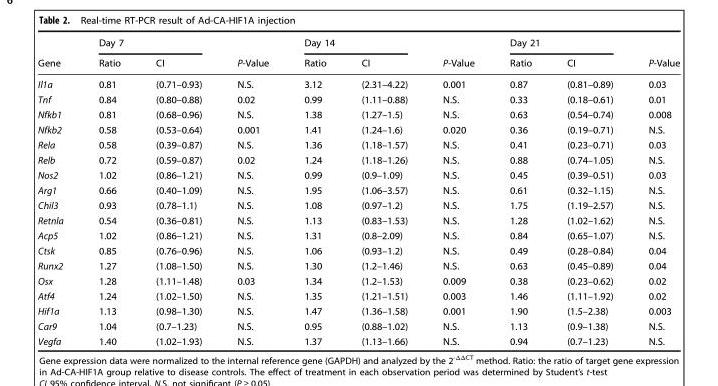table: (37, 36, 679, 346)
table column: (548, 36, 630, 346), (137, 36, 218, 346), (343, 36, 424, 346), (218, 36, 285, 346), (424, 36, 491, 346), (285, 36, 343, 346), (80, 36, 137, 346), (491, 36, 548, 346), (630, 36, 679, 346), (37, 36, 80, 346)
table column header: (37, 36, 679, 73)
table row: (37, 52, 679, 73), (37, 73, 679, 91), (37, 36, 679, 52), (37, 136, 679, 152), (37, 257, 679, 273), (37, 91, 679, 106), (37, 106, 679, 121), (37, 121, 679, 136), (37, 152, 679, 167), (37, 167, 679, 182), (37, 182, 679, 197), (37, 197, 679, 212), (37, 212, 679, 227), (37, 227, 679, 242), (37, 242, 679, 257), (37, 273, 679, 288), (37, 288, 679, 303), (37, 303, 679, 318), (37, 318, 679, 333), (37, 333, 679, 346)
table spanning cell: (218, 36, 285, 73), (424, 36, 491, 73), (285, 36, 424, 52), (491, 36, 630, 52), (80, 36, 218, 52), (630, 36, 679, 73), (37, 36, 80, 73)
